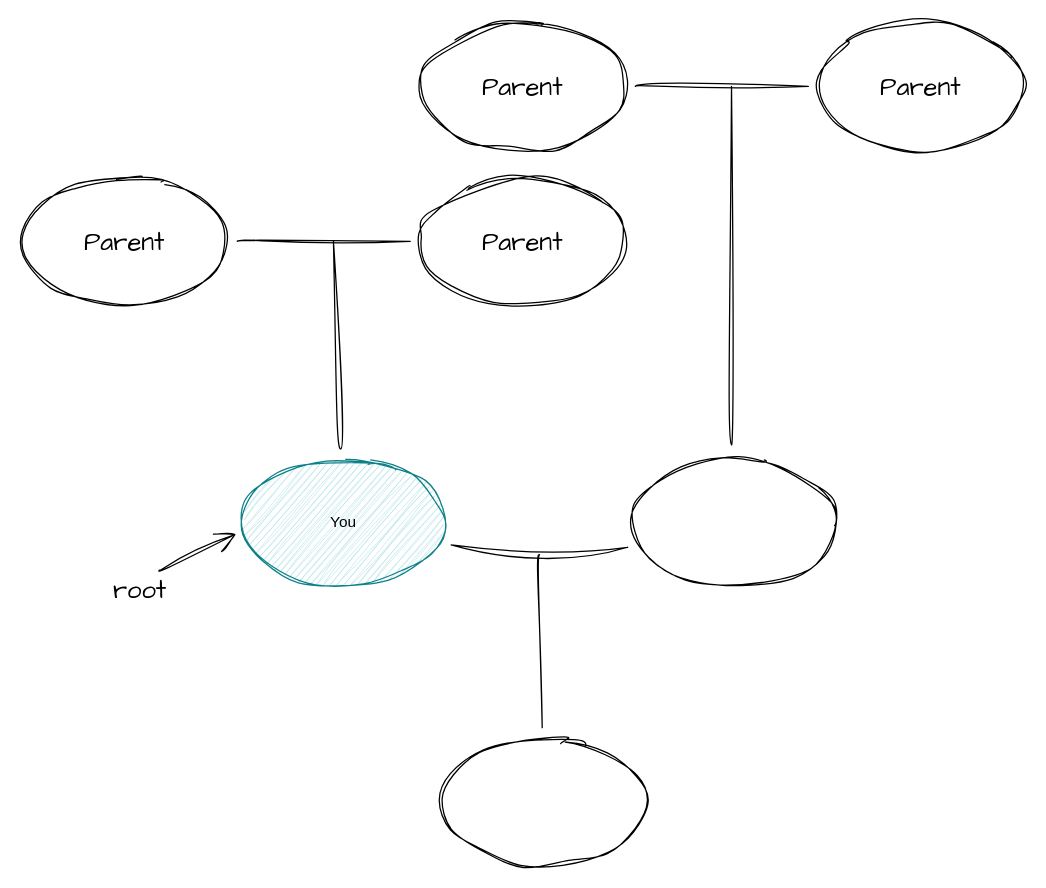
Some shapes in this 1046 by 888 pixel diagram are drawn without their labels. The shapes that lost their labels are listed below. From the top down, each one's centre as x and y in pixels, then its label:
At point 733,522: "Spouse".
At point 543,801: "Child 1".
